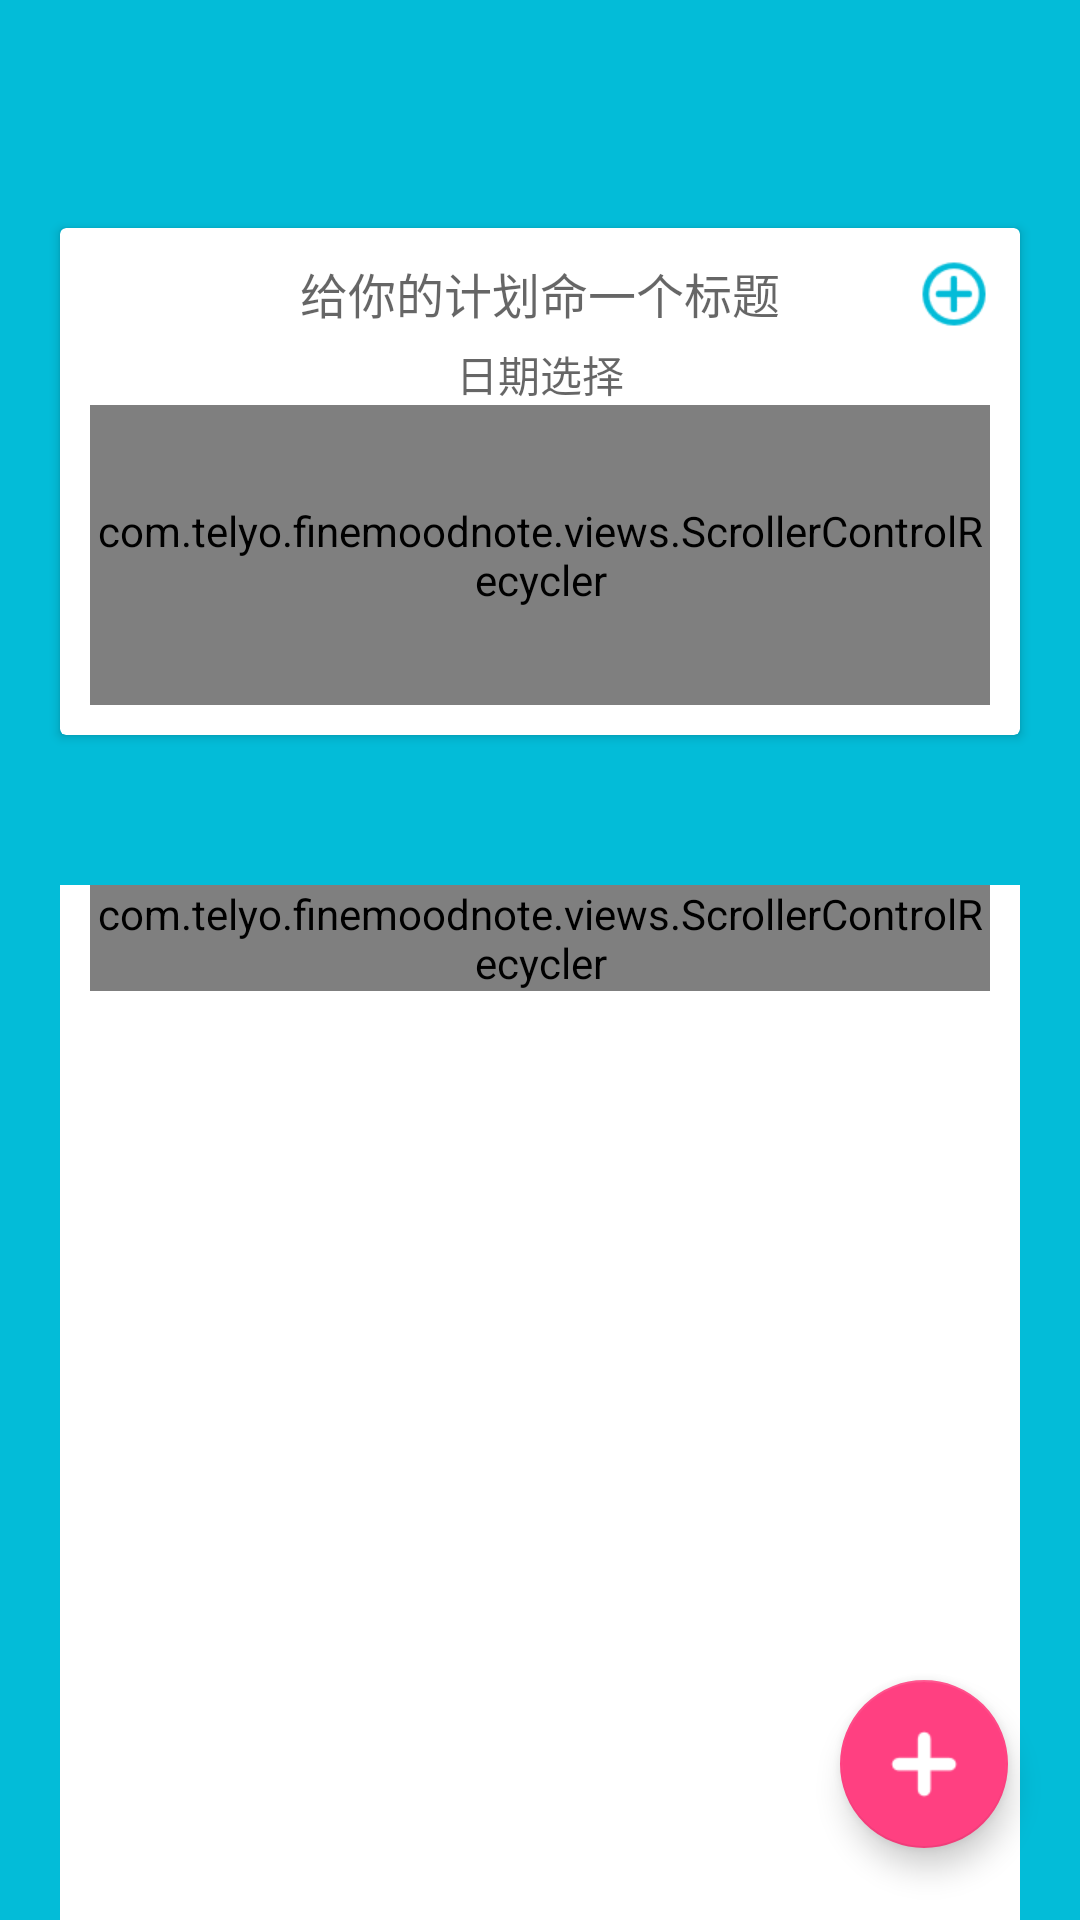

Named icons in this screenshot (1080px×1920px) and their bounding boxes, (x1, y1, x2, y2):
add: (922, 262, 986, 326)
float add: (840, 1680, 1008, 1848)
